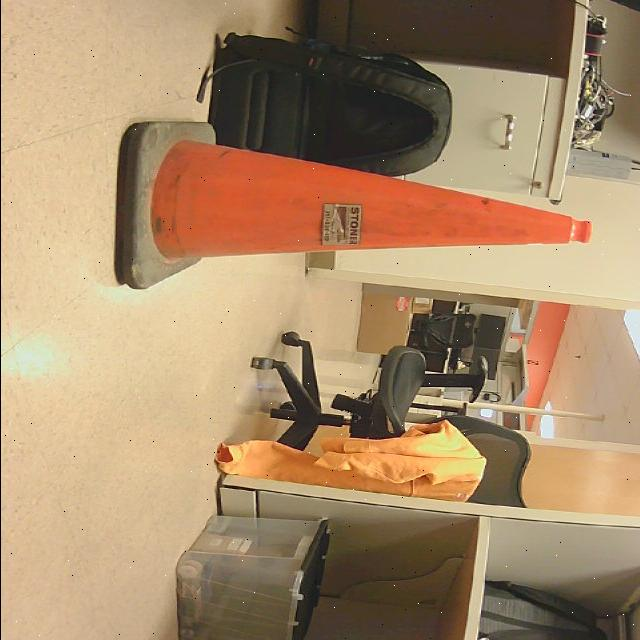traffic cone: (112, 123, 592, 291)
